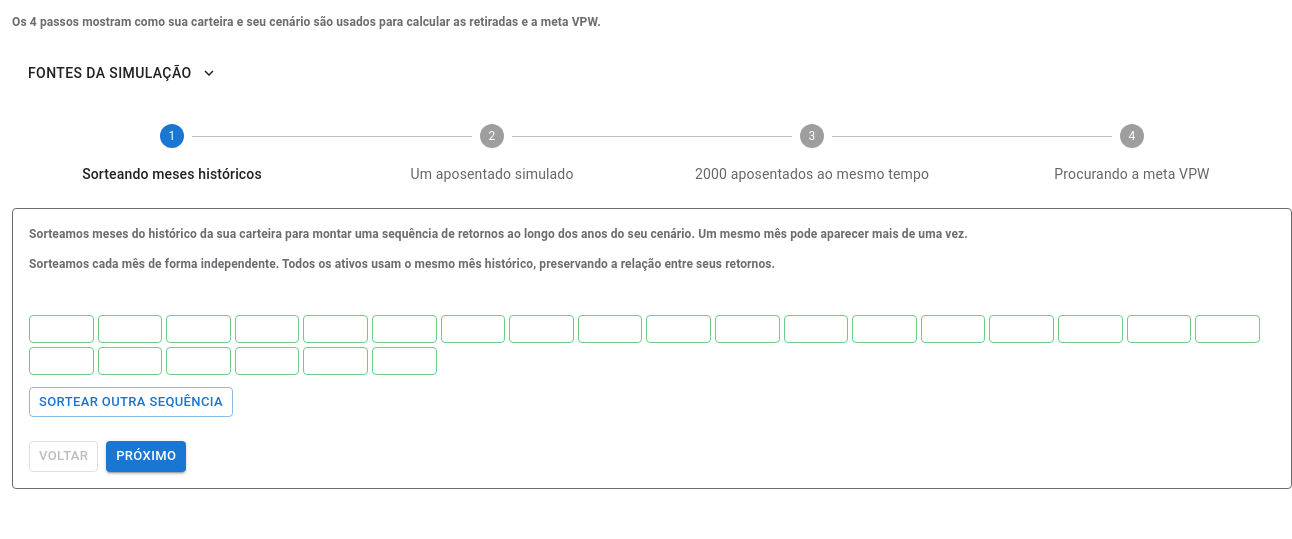
ends the explanation at the calculated target without a separate test action
Step 1. Click the button "4 Procurando a meta VPW" → (1132, 174), box [1054,124,1210,182]
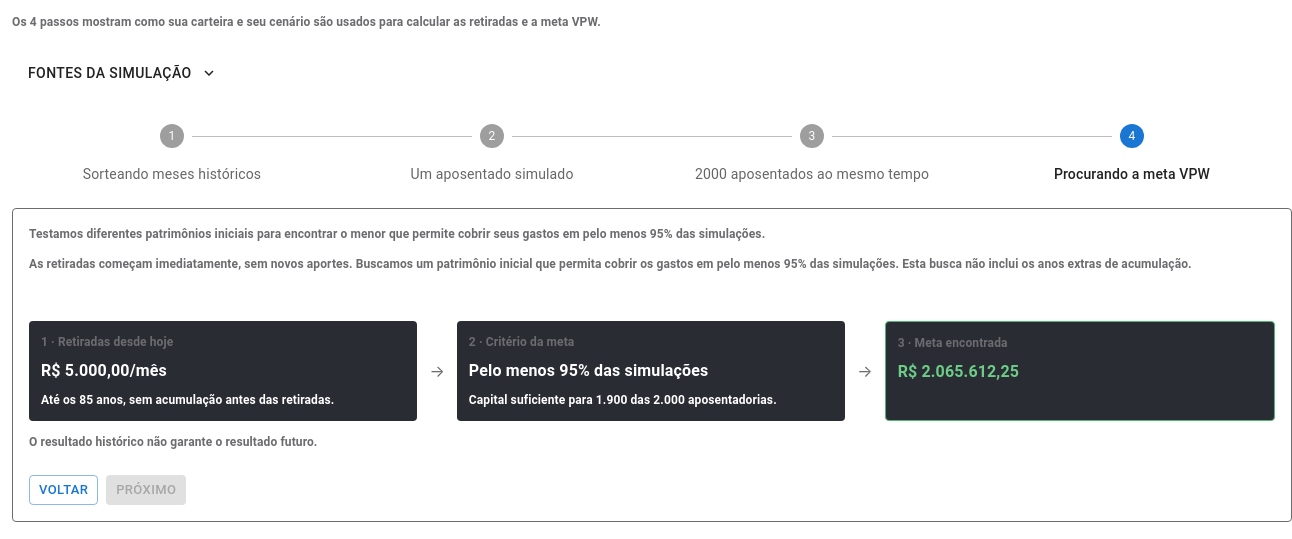
Expected: the list named "Como chegamos à meta VPW" is shown, [29,320,1275,420]
Expected: the text "1 · Retiradas desde hoje" is shown, [41,334,173,348]
Expected: the text "2 · Critério da meta" is shown, [469,334,574,348]
